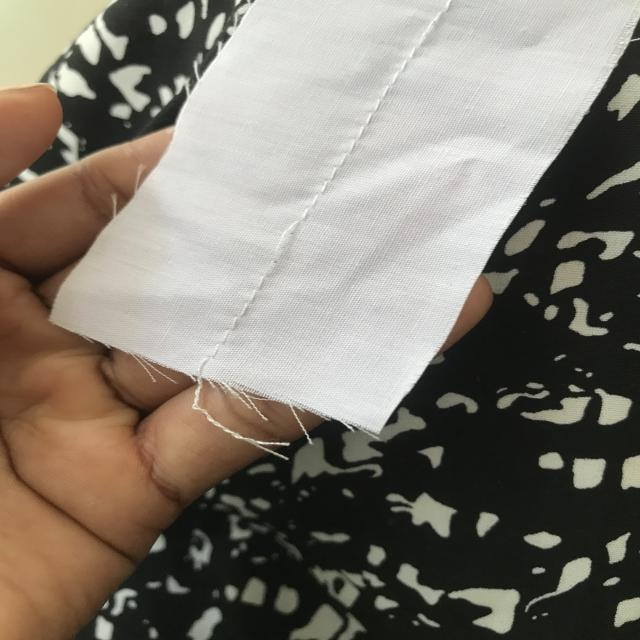skip: (254, 203, 340, 278)
